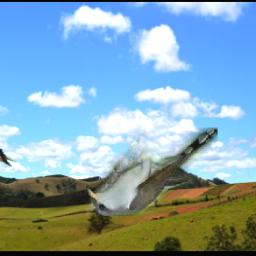Cuckoo: (87, 128, 219, 217)
Swallow: (0, 143, 17, 166)
